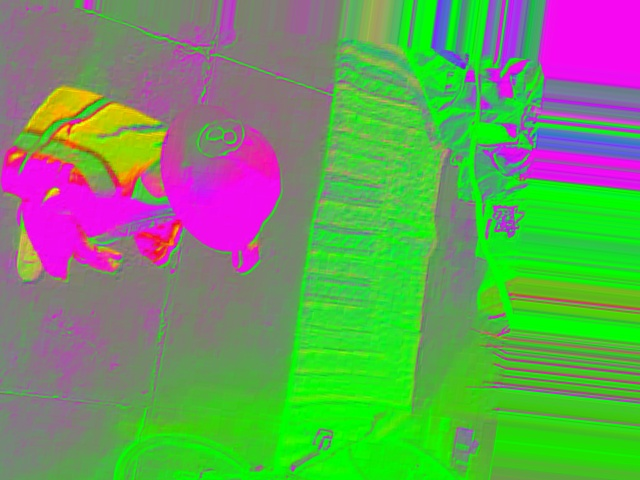eight: (195, 116, 247, 163)
